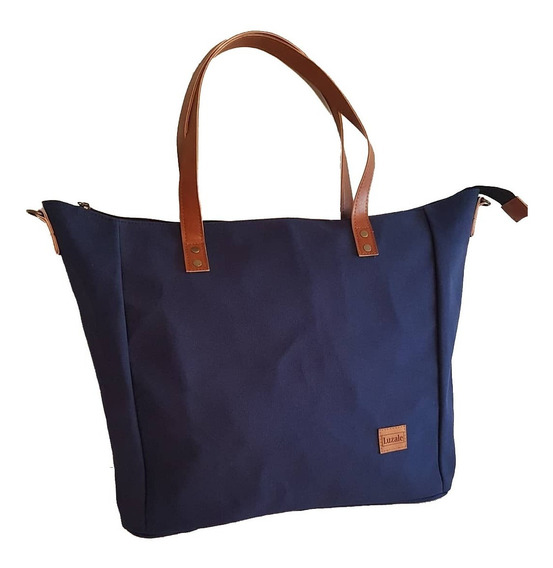cartera: (35, 30, 505, 538)
